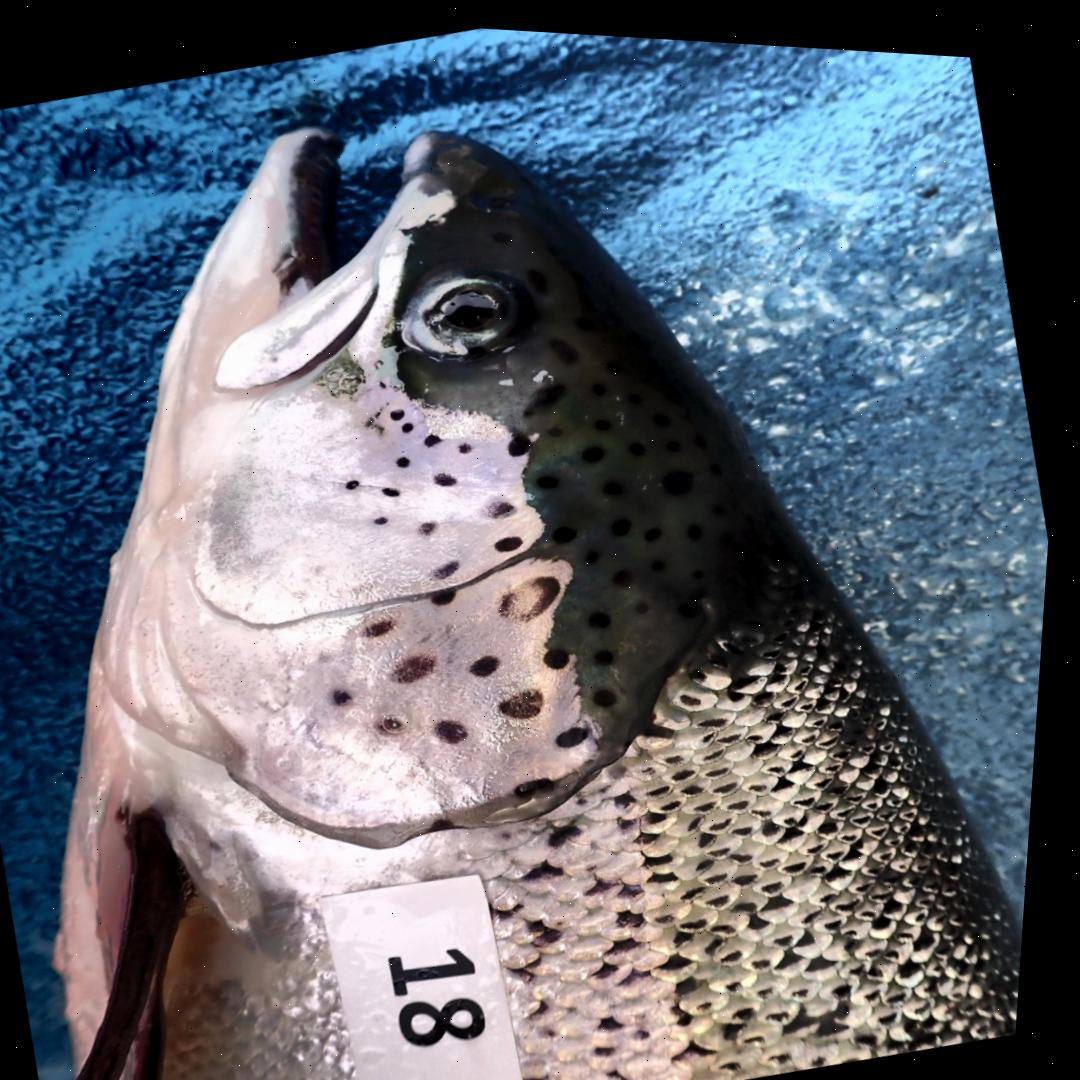spot: (505, 568, 568, 615), (508, 681, 553, 712), (400, 648, 445, 678), (442, 713, 478, 739), (523, 770, 563, 791), (563, 718, 599, 741), (383, 710, 416, 731), (478, 648, 506, 671), (372, 613, 403, 632), (491, 493, 522, 512), (511, 427, 536, 450), (551, 641, 578, 662), (438, 554, 466, 573), (502, 529, 528, 545), (437, 585, 462, 600), (439, 812, 465, 826), (340, 685, 361, 701), (438, 467, 462, 480), (424, 515, 441, 529), (429, 428, 446, 441), (388, 481, 406, 492), (401, 450, 416, 462), (395, 403, 409, 415), (350, 474, 364, 486), (379, 510, 394, 520), (406, 416, 418, 428), (464, 436, 476, 447)
